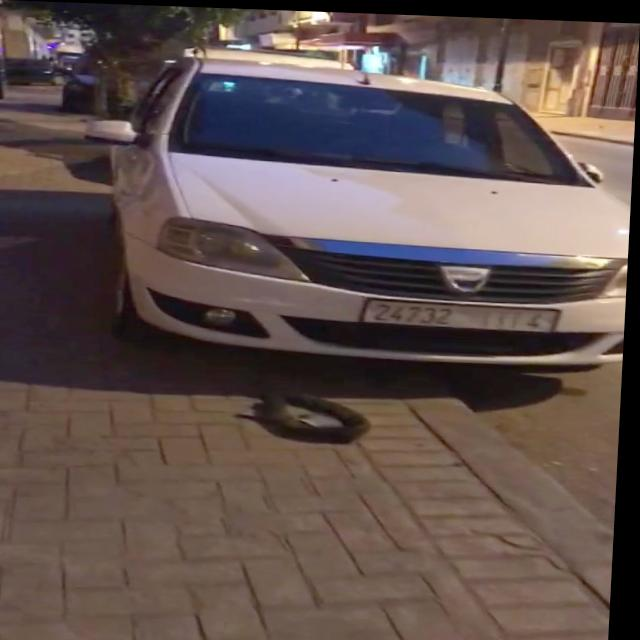License-Plate: (367, 296, 562, 327)
